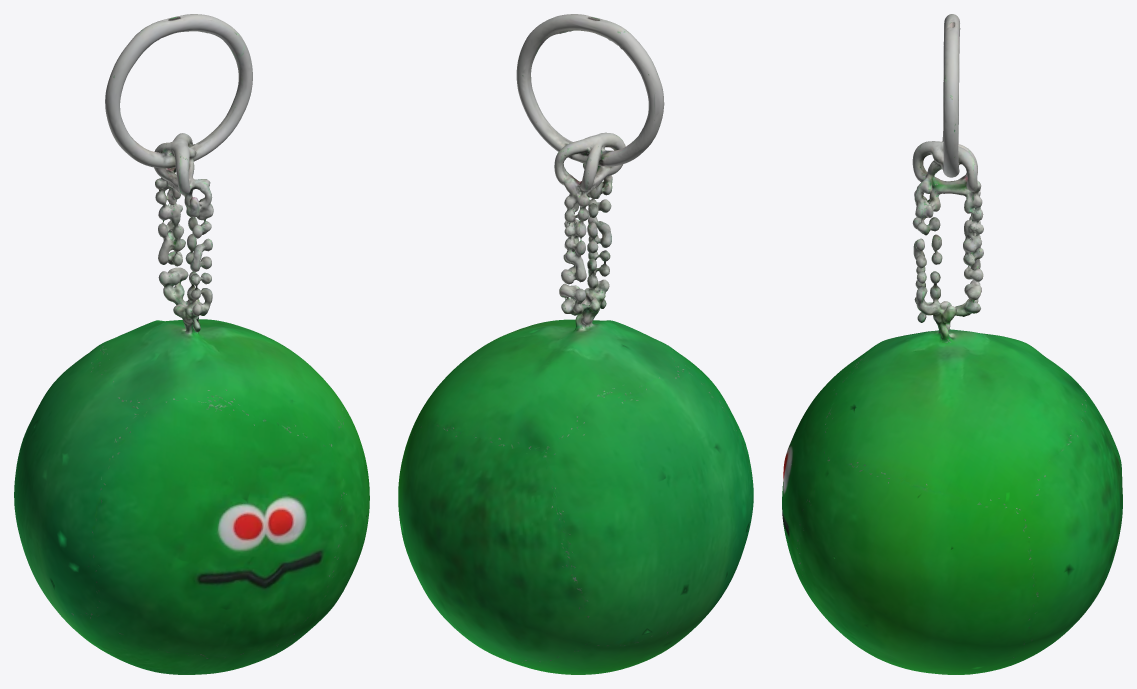
Rendered from hanging-ball-green.glb.
3 renders of one model, left to right at view 1: azimuth 30°, elevation 25°; view 2: azimuth 150°, elevation 25°; view 3: azimuth 270°, elevation 25°, orthographic. The views are drawn at different scales.
Bounding box in the file's own units: 0.9926 × 2 × 0.9879.
1 material, 1 textured.
